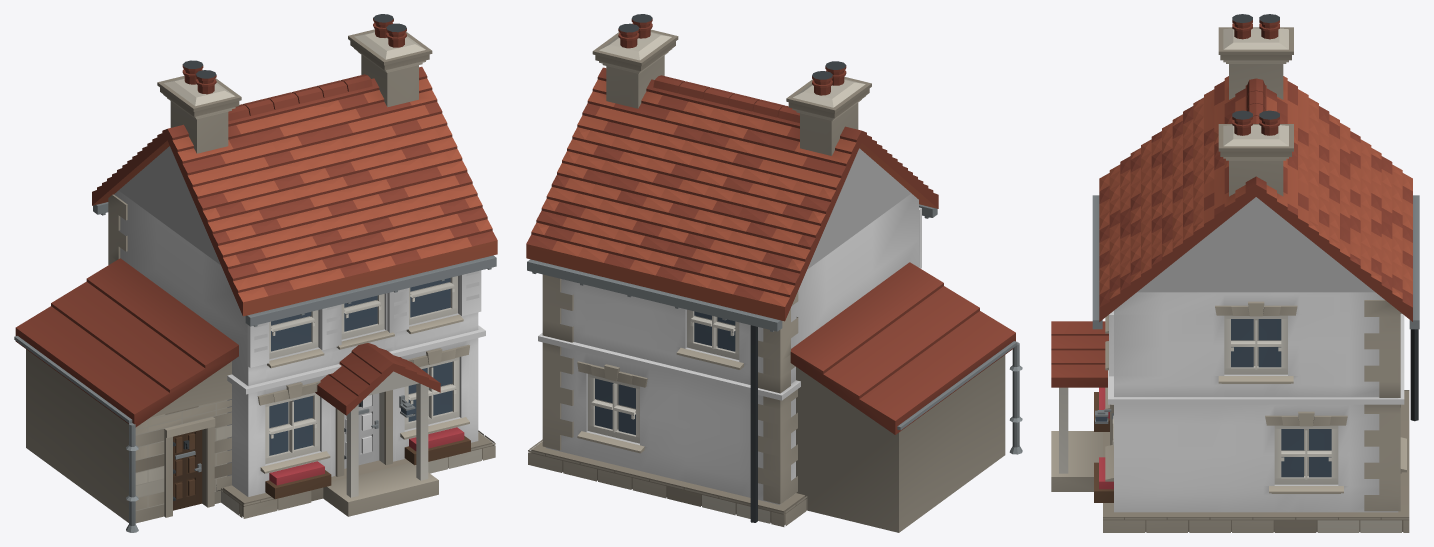
File: farmhouse-near.glb
The picture shows the model from 3 angles, left to right: view 1: azimuth 30°, elevation 25°; view 2: azimuth 150°, elevation 25°; view 3: azimuth 270°, elevation 25°; orthographic projection. The views are drawn at different scales.
Visible parts, largest first — view 1: FarmhouseNear; view 2: FarmhouseNear; view 3: FarmhouseNear.
Boxes of the visible parts, x1,y1,x2,y2 form: FarmhouseNear: (14, 14, 497, 532); FarmhouseNear: (526, 14, 1022, 532); FarmhouseNear: (1051, 14, 1419, 532).
Bounding box in the file's own units: 1.01 × 1.06 × 0.881.
